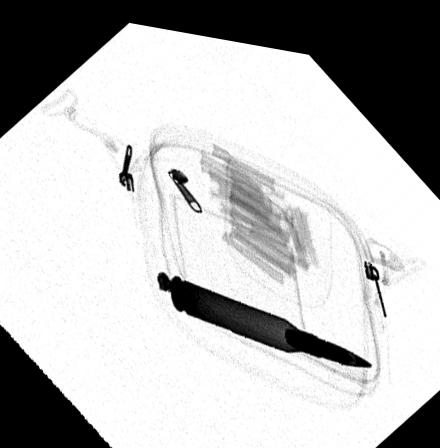Bullet: (168, 269, 374, 357)
